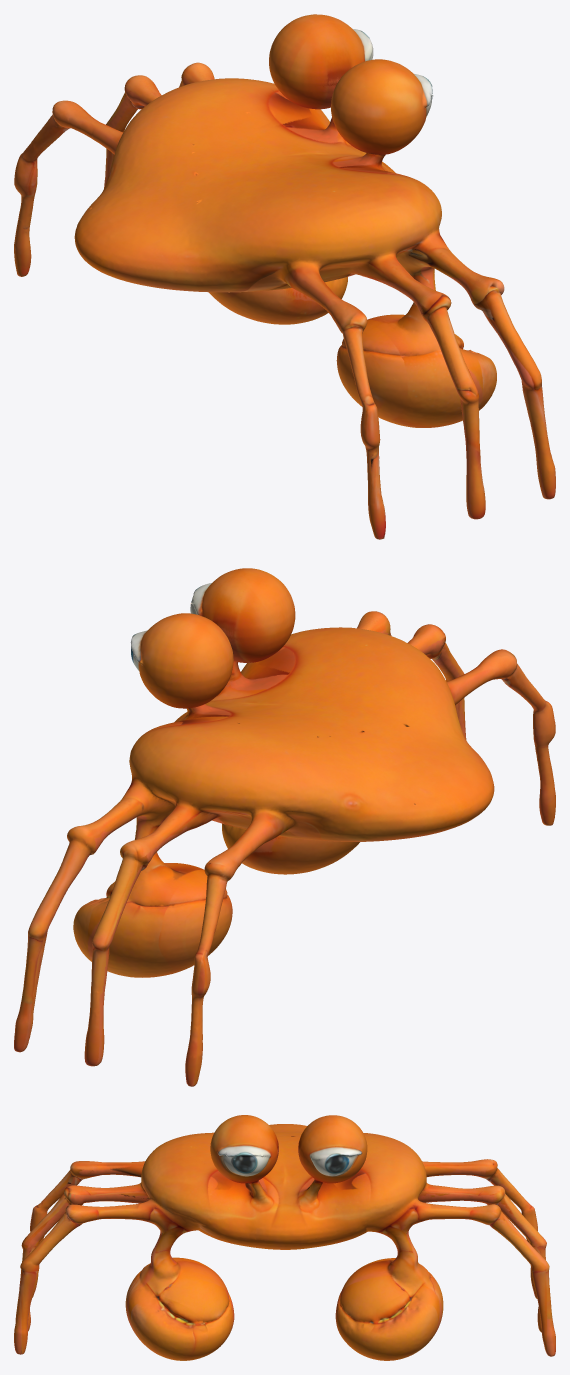
The model's file is CRAB.fbx.
The picture shows the model from 3 angles, top to bottom: view 1: azimuth 30°, elevation 25°; view 2: azimuth 150°, elevation 25°; view 3: azimuth 270°, elevation 25°; orthographic projection. The views are drawn at different scales.
Visible parts, largest first — view 1: Mesh_0.138; view 2: Mesh_0.138; view 3: Mesh_0.138.
Part boxes in pixels (x1=…): Mesh_0.138: x1=14, y1=14, x2=555, y2=539; Mesh_0.138: x1=14, y1=568, x2=555, y2=1086; Mesh_0.138: x1=14, y1=1115, x2=555, y2=1360.
Bounding box in the file's own units: 99.4 × 94.91 × 199.
Materials: 1 (1 with a texture image).
